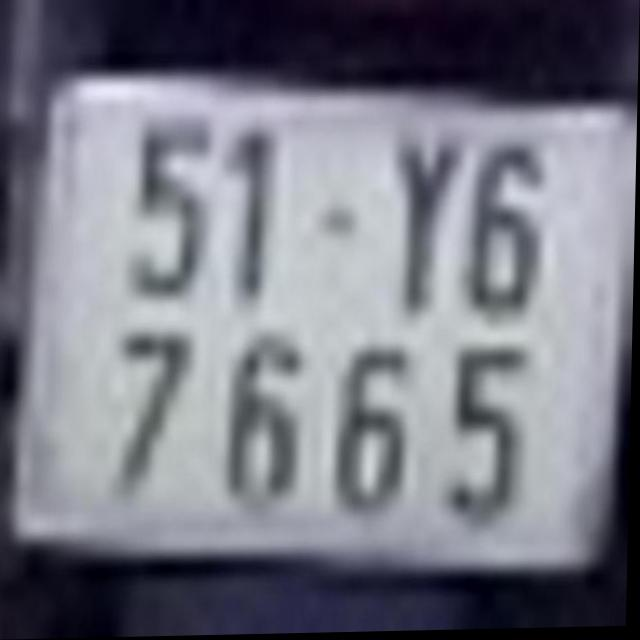1: (223, 122, 281, 305)
5: (439, 335, 531, 527), (125, 114, 218, 299)
6: (216, 311, 314, 518), (465, 134, 546, 327), (331, 331, 409, 522)
7: (102, 321, 199, 515)
Y: (381, 124, 464, 320)
